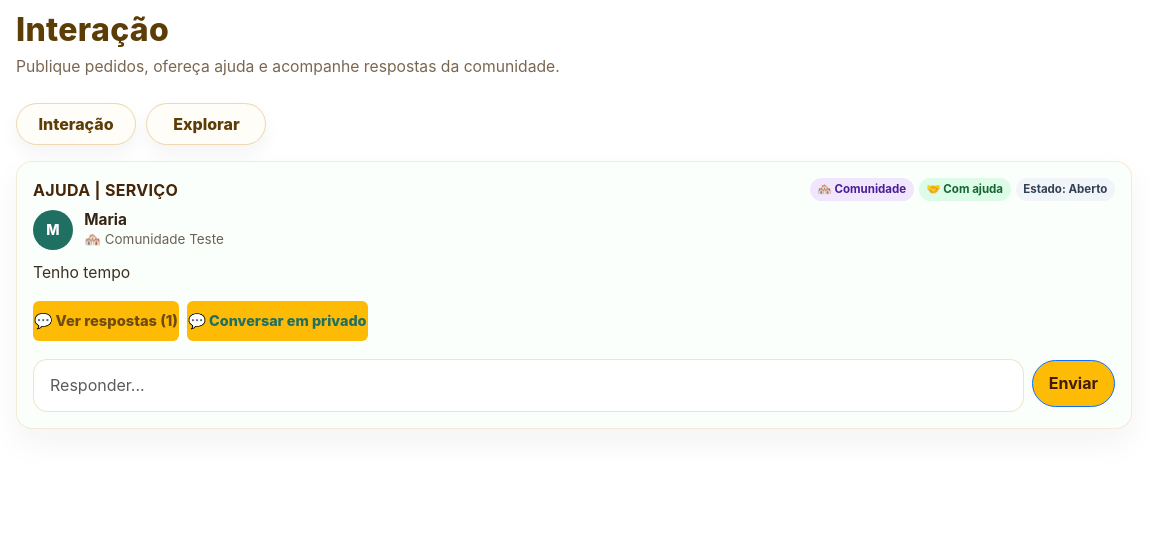
it: resposta própria não mostra ação privada da resposta
Click the button "💬 Ver respostas (1)" at (106, 321), box [33,301,179,341]
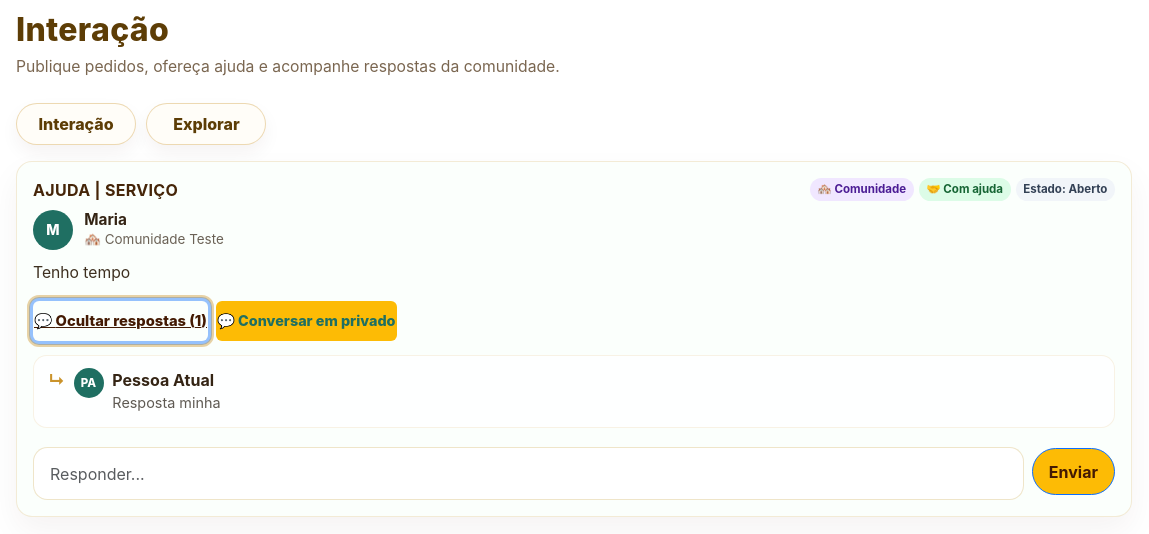
expect the number of buttons "💬 Conversar em privado" is 1: met, box [216,301,396,341]
expect the text "Resposta minha" is shown: met, box [112,394,220,411]
